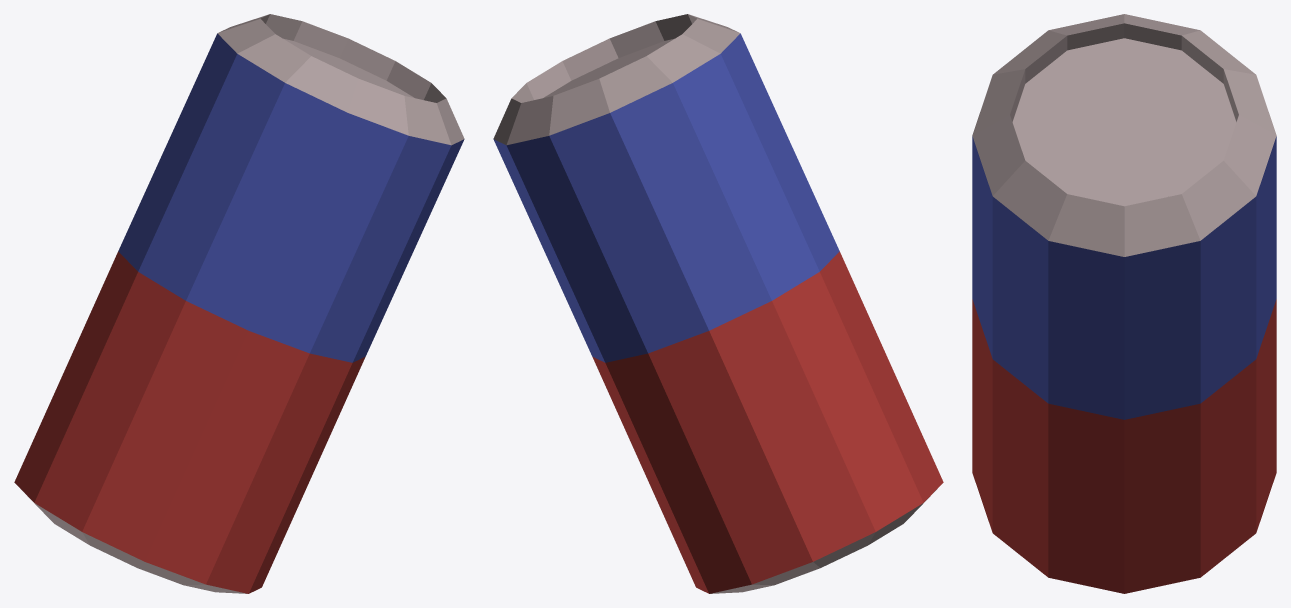
Rendered from EnergyRelic.fbx.
3 renders of one model, left to right at view 1: azimuth 30°, elevation 25°; view 2: azimuth 150°, elevation 25°; view 3: azimuth 270°, elevation 25°, orthographic. The views are drawn at different scales.
Visible parts, largest first — view 1: Latinha; view 2: Latinha; view 3: Latinha.
Part boxes in pixels (x1,y1,x2,y2): Latinha: (14, 14, 464, 593); Latinha: (493, 14, 943, 593); Latinha: (972, 14, 1276, 593).
Bounding box in the file's own units: 0.3518 × 0.4299 × 0.2013.
